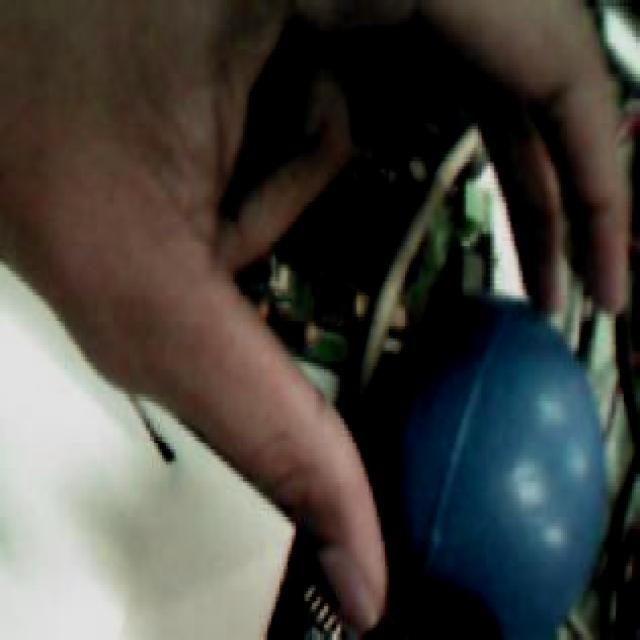BallPurple: (387, 296, 605, 635)
